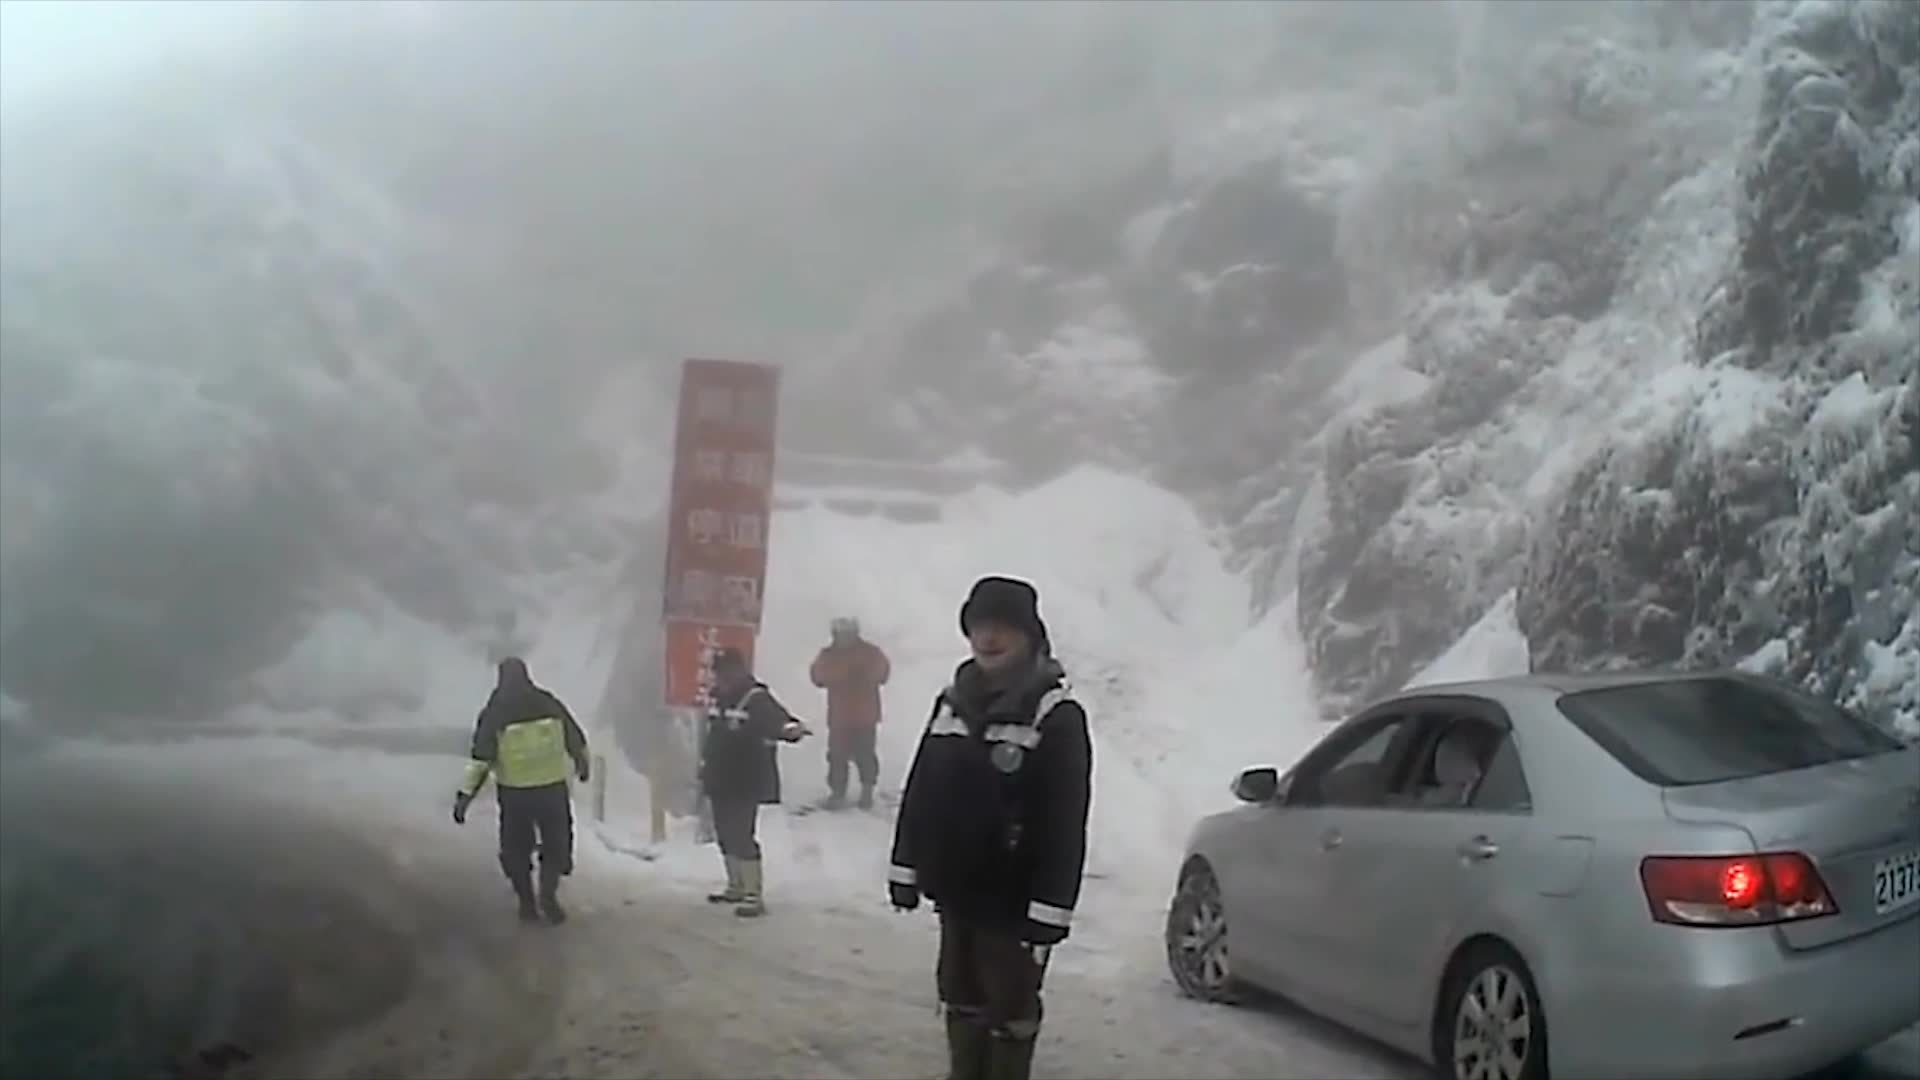pedestrian: (882, 567, 1091, 1080), (453, 657, 594, 924), (697, 646, 806, 917), (812, 613, 892, 810)
vehicle: (1159, 671, 1920, 1080)
